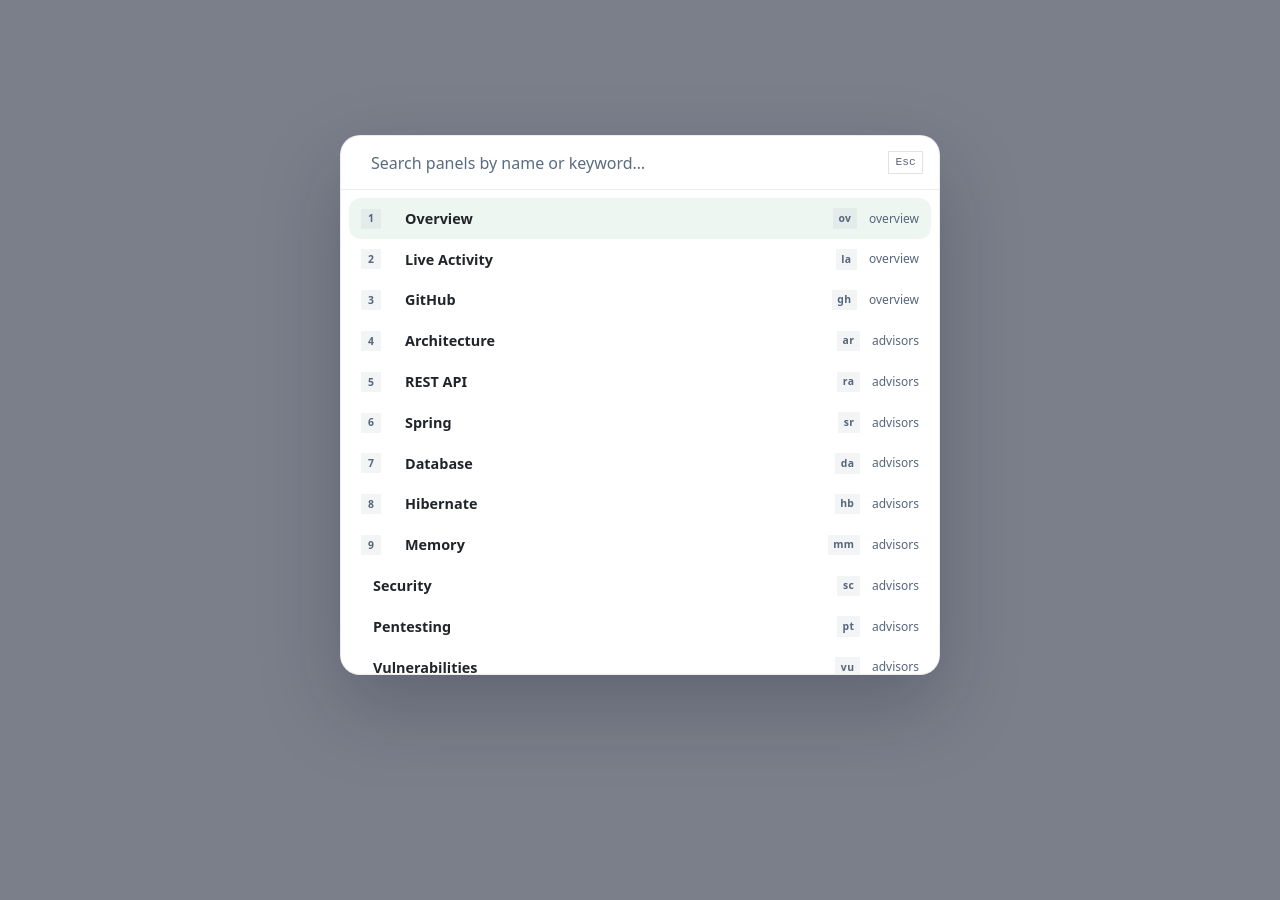
Test: CommandPalette › shows number badges only while browsing the unfiltered list
This screenshot has width=1280, height=900.
Check: the text "1" is shown, box x1=361 y1=209 x2=381 y2=229
Type "security" into the dropdown with class "cp-input" at coordinates (623, 163), box x1=369 y1=150 x2=876 y2=176
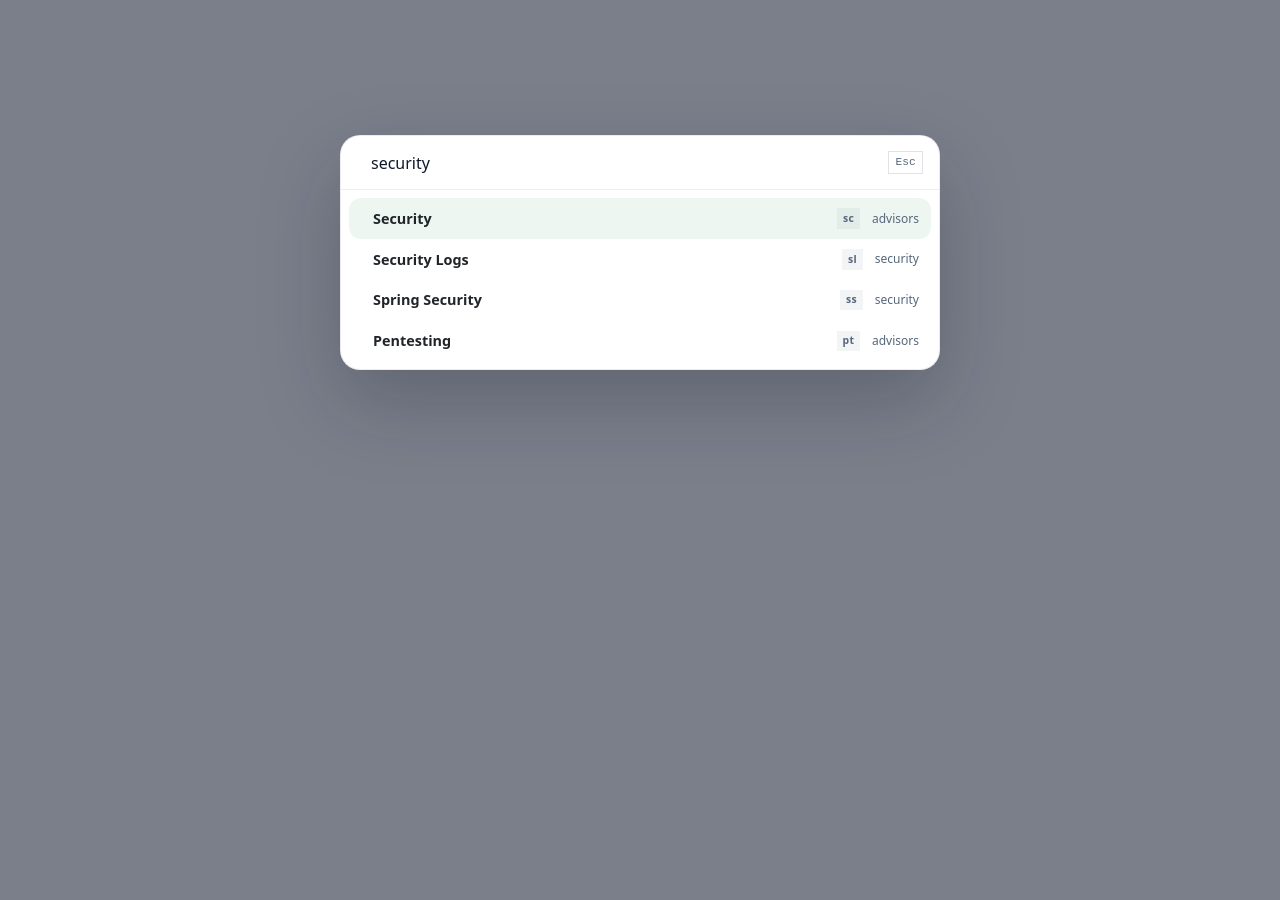
Check: no elements with class "cp-item-num" are shown
